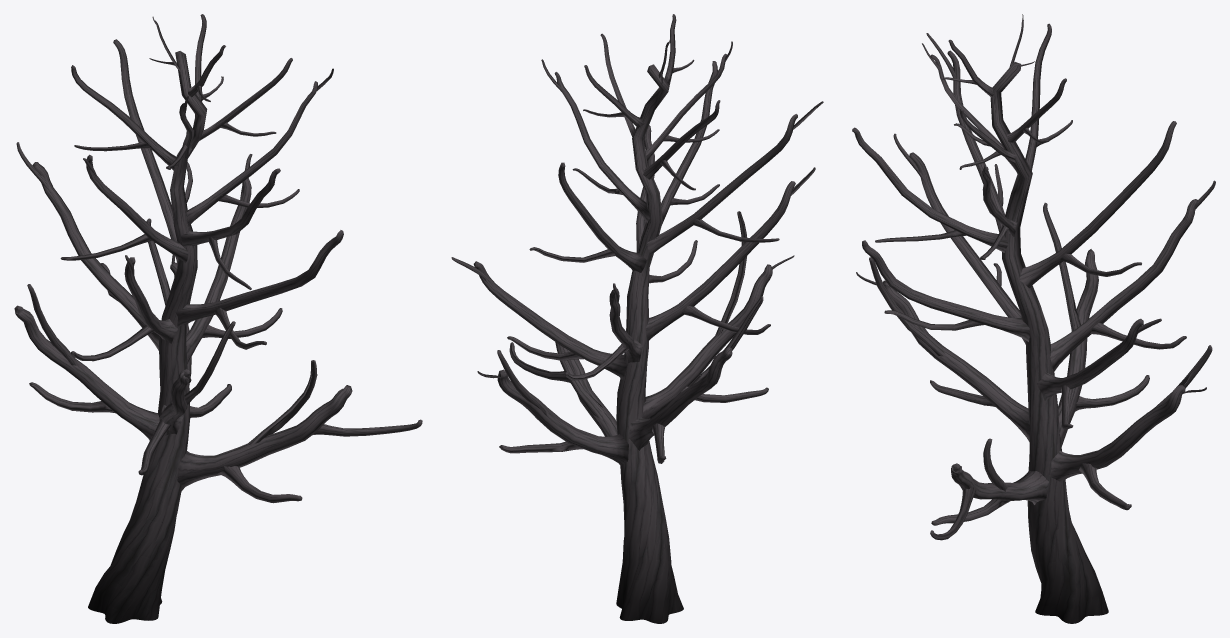
Rendered from DeadTree_2.glb.
3 renders of one model, left to right at view 1: azimuth 30°, elevation 25°; view 2: azimuth 150°, elevation 25°; view 3: azimuth 270°, elevation 25°, orthographic. The views are drawn at different scales.
Parts seen in each view (by area): view 1: DeadTree_2; view 2: DeadTree_2; view 3: DeadTree_2.
Part boxes in pixels (x1=…): DeadTree_2: x1=14, y1=14, x2=422, y2=623; DeadTree_2: x1=451, y1=14, x2=823, y2=623; DeadTree_2: x1=852, y1=14, x2=1215, y2=623.
Size of the model in its own units: 6.73 by 11.49 by 6.38.
1 material, 1 textured.
